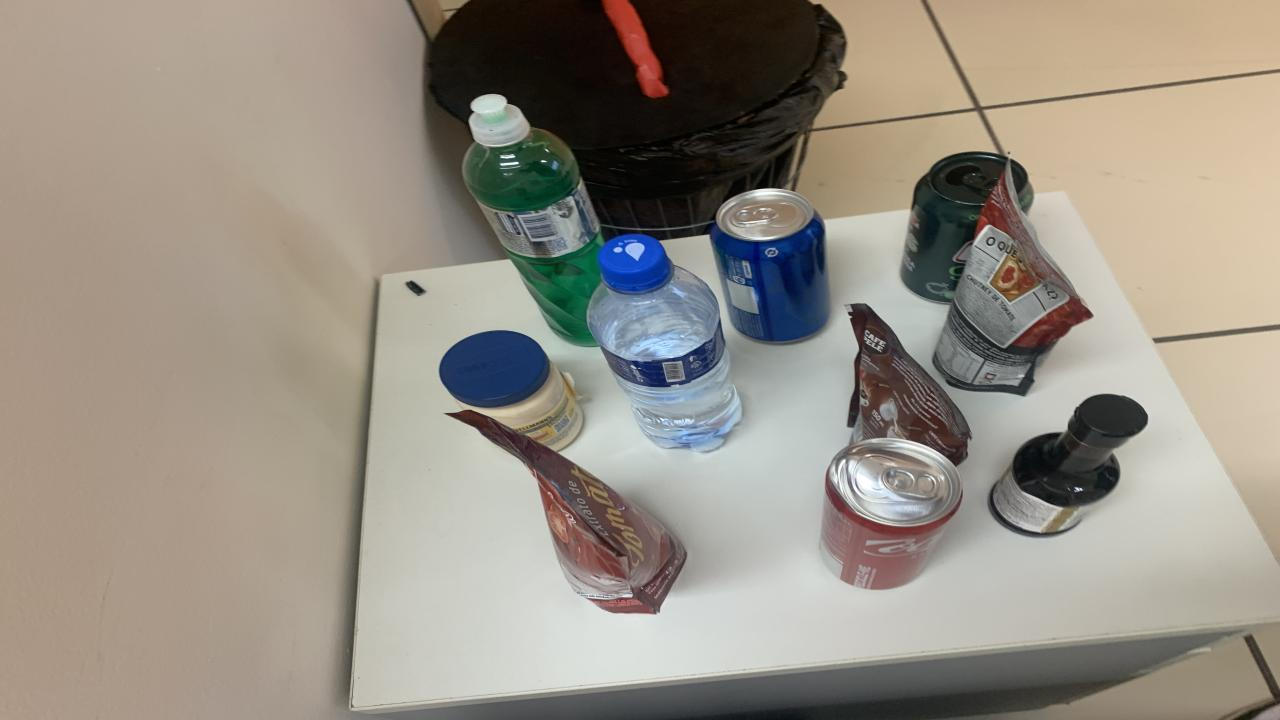Coffee-Pantry_Items: (845, 304, 972, 465)
Coke-Drinks: (820, 439, 962, 589)
Detergent-Cleanup_Items: (462, 94, 600, 343)
English_Sauce-Pantry_Items: (990, 394, 1148, 536)
Guarana_Can-Drinks: (900, 152, 1008, 304), (1010, 161, 1035, 212)
Mayonnaise-Pantry_Items: (440, 330, 582, 450)
Tomato_Sauce-Pantry_Items: (448, 411, 688, 613), (932, 171, 1092, 396)
Tonic-Drinks: (710, 188, 830, 343)
Water_Bottle-Drinks: (588, 234, 742, 452)
